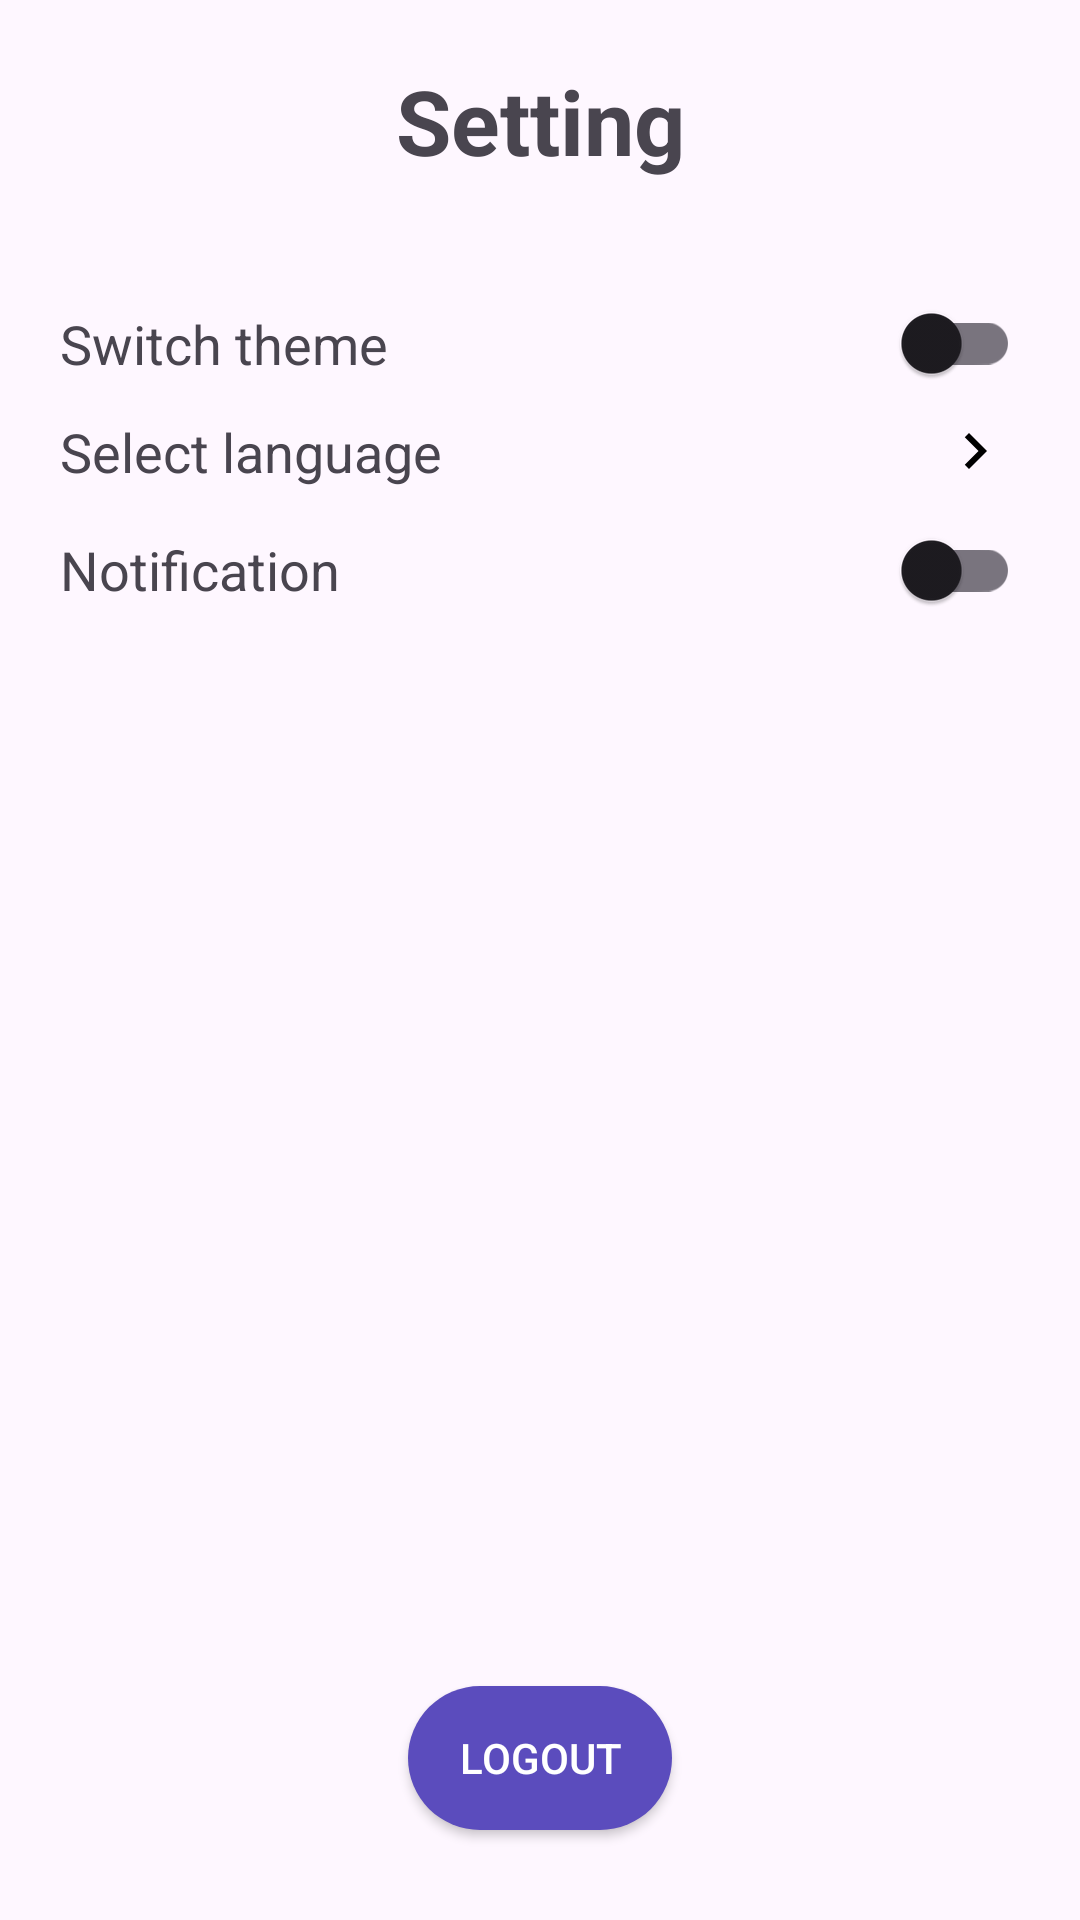

Point at icon controls on the screen. Image size 1080px x 1920px, points as (x,y).
next: (976,451)
